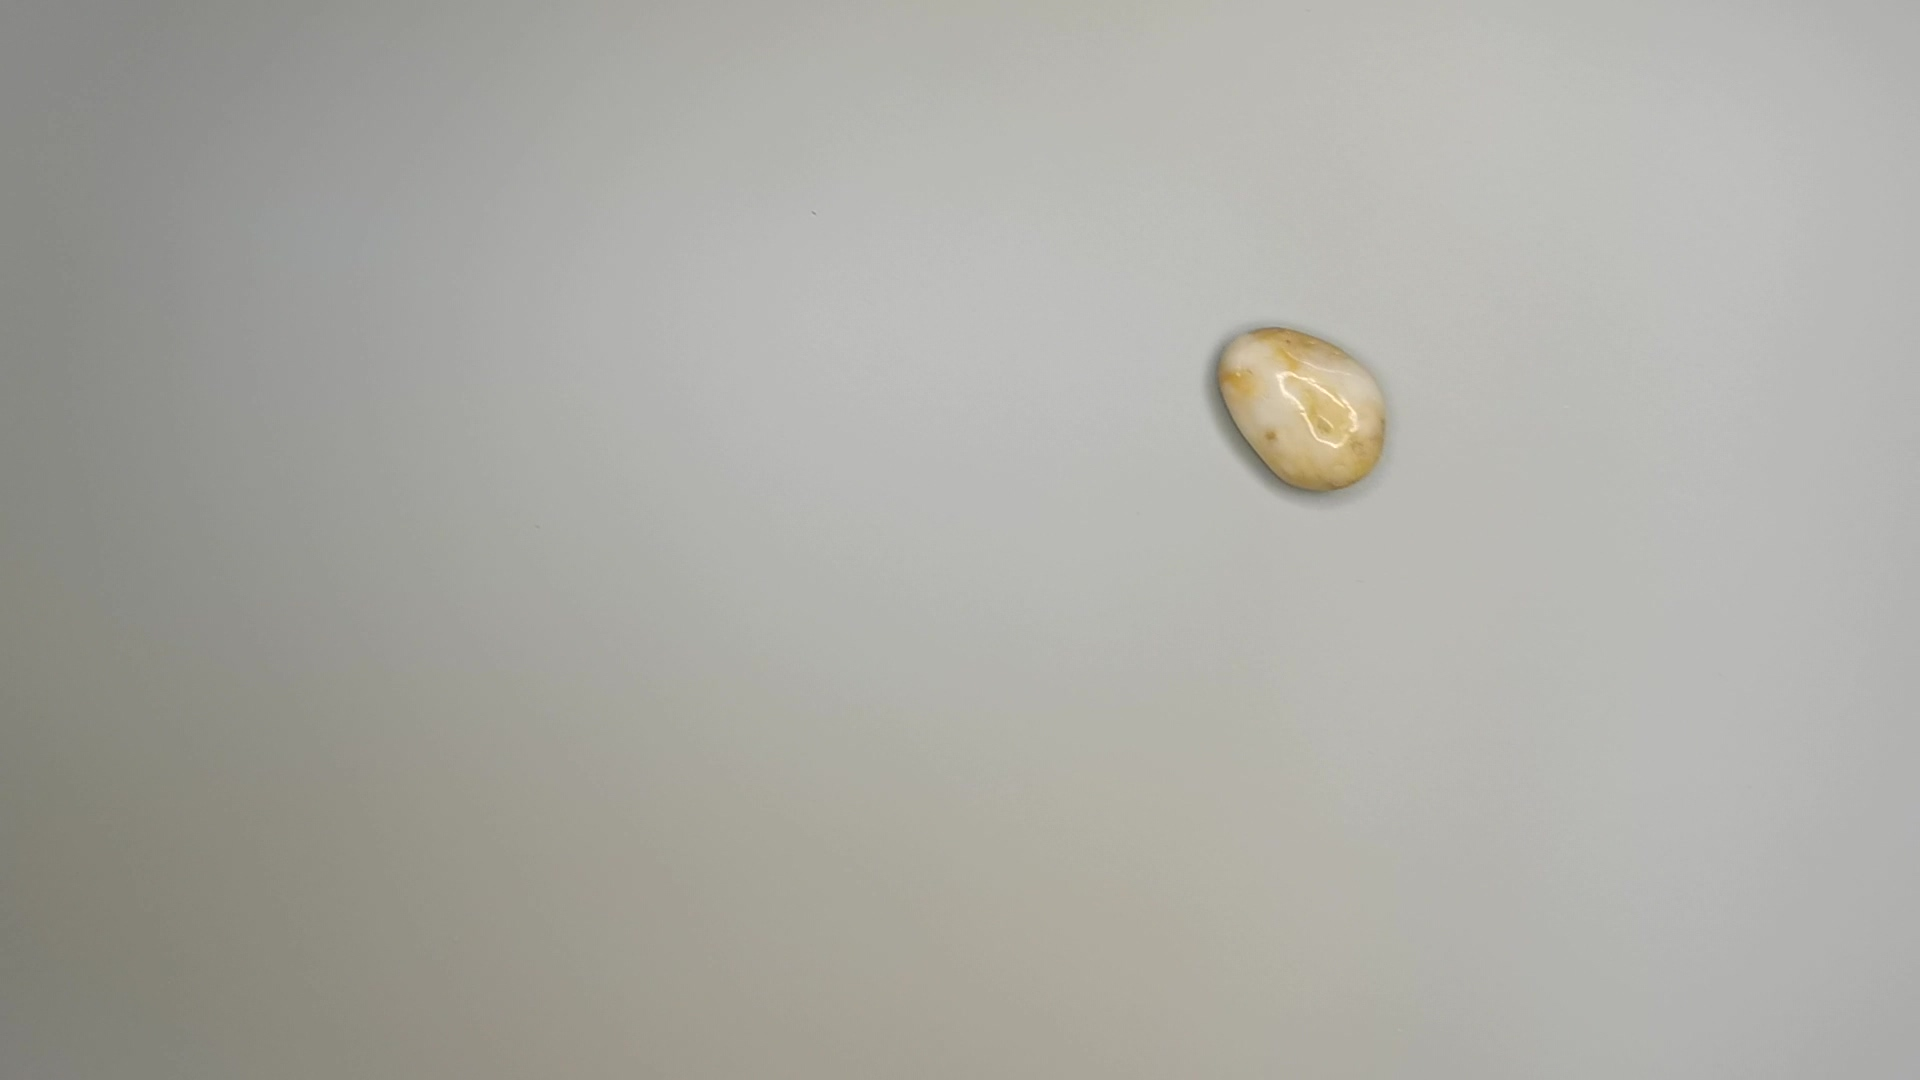ceramic: (1207, 311, 1404, 501)
